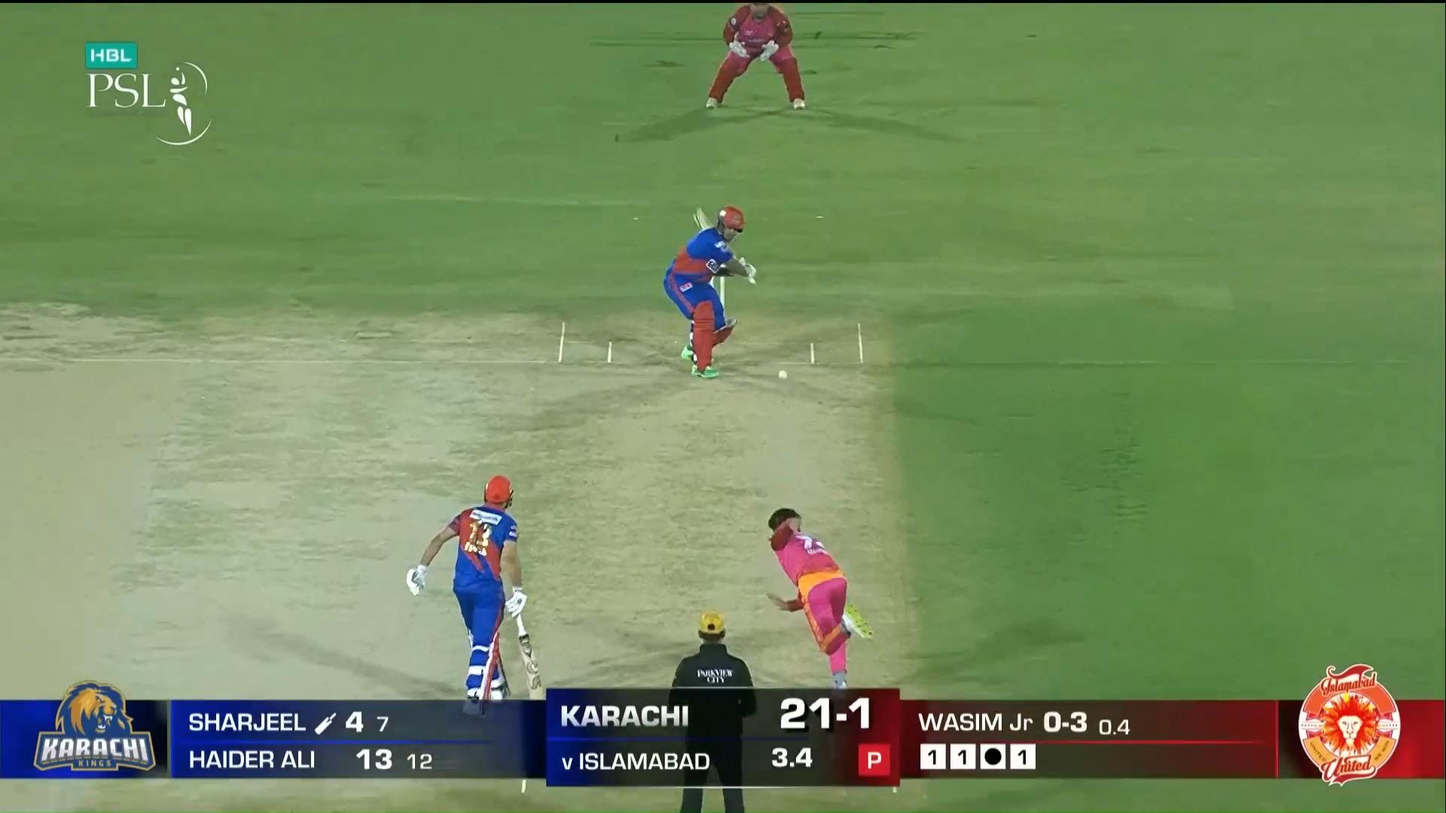batsman: (663, 204, 756, 381)
